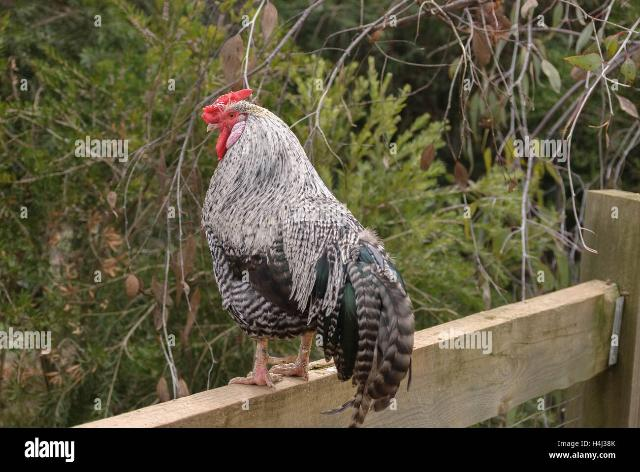Chicken: (202, 88, 415, 429)
